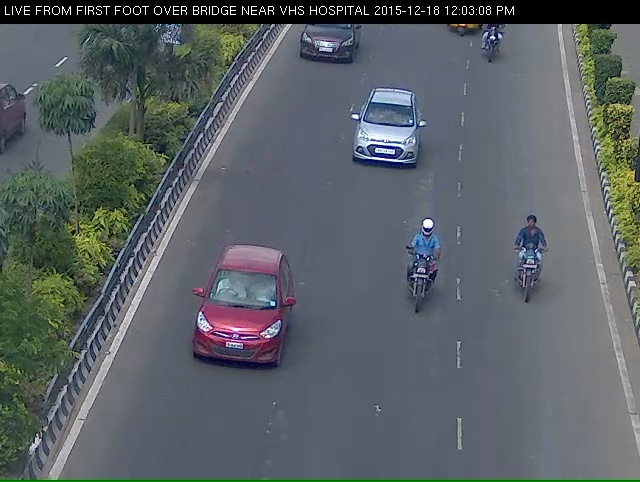Car: (182, 270, 296, 396), (349, 98, 418, 185), (293, 23, 353, 66)
Person: (391, 240, 453, 339), (513, 235, 552, 325), (478, 23, 506, 71)
